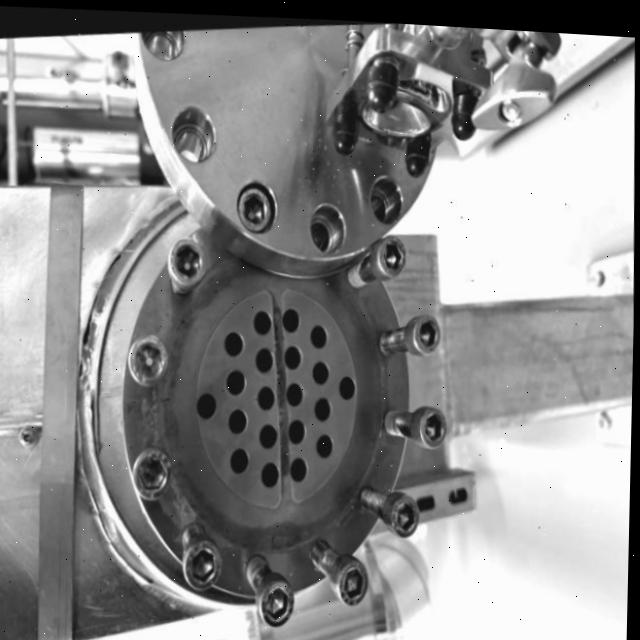Hole: (228, 399, 249, 428), (259, 413, 280, 442), (253, 300, 274, 329), (231, 438, 251, 467), (262, 452, 282, 481), (256, 338, 275, 367), (197, 384, 217, 411), (257, 376, 277, 403), (289, 409, 308, 437), (225, 323, 246, 348), (291, 446, 309, 475), (310, 315, 329, 342), (317, 425, 336, 452), (282, 298, 301, 325), (284, 336, 303, 362), (228, 361, 246, 388), (287, 373, 305, 400), (313, 351, 331, 378), (315, 388, 333, 415), (340, 367, 356, 391)
